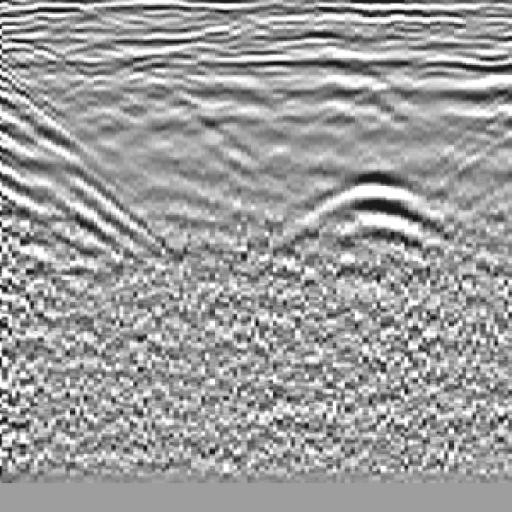metalic: (271, 156, 502, 282)
nonmetalic: (1, 55, 194, 274)
